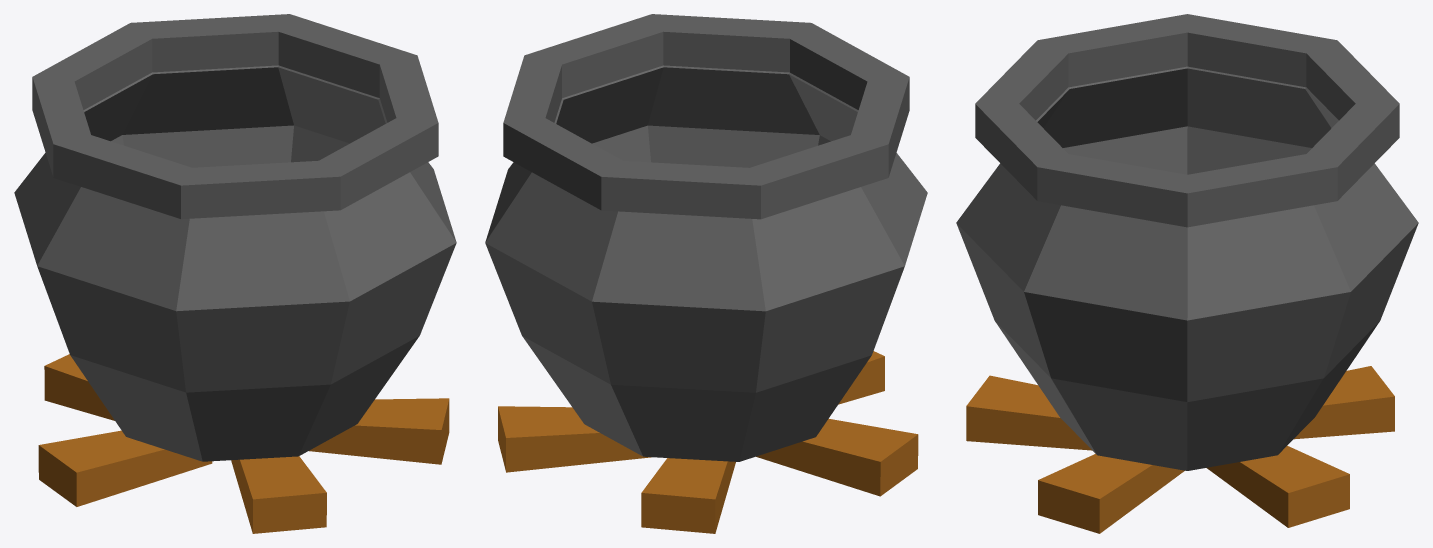
File: cauldron unfilled.fbx
The picture shows the model from 3 angles, left to right: view 1: azimuth 30°, elevation 25°; view 2: azimuth 150°, elevation 25°; view 3: azimuth 270°, elevation 25°; orthographic projection.
Parts seen in each view (by area): view 1: Sphere, firewood; view 2: Sphere, firewood; view 3: Sphere, firewood.
Boxes of the visible parts, x1,y1,x2,y2 form: Sphere: (14,14,456,461); firewood: (38,354,449,533); Sphere: (485,14,927,461); firewood: (498,351,918,533); Sphere: (956,14,1418,470); firewood: (966,366,1394,533).
Size of the model in its own units: 223 by 184 by 223.
